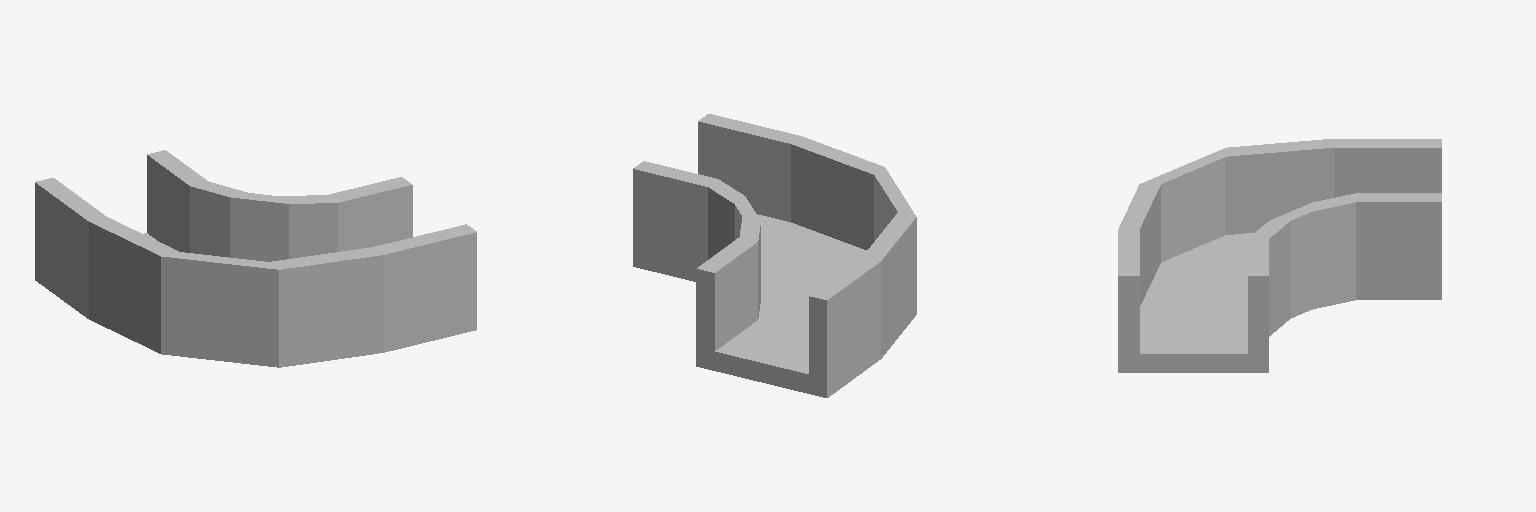
File: Corner.obj
3 renders of one model, left to right at view 1: azimuth 30°, elevation 25°; view 2: azimuth 150°, elevation 25°; view 3: azimuth 270°, elevation 25°, orthographic.
Parts seen in each view (by area): view 1: Cube; view 2: Cube; view 3: Cube.
Part boxes in pixels (bbox=[...]): Cube: bbox=[35, 150, 476, 367]; Cube: bbox=[633, 114, 916, 397]; Cube: bbox=[1118, 139, 1441, 372].
Size of the model in its own units: 15 by 5 by 15.